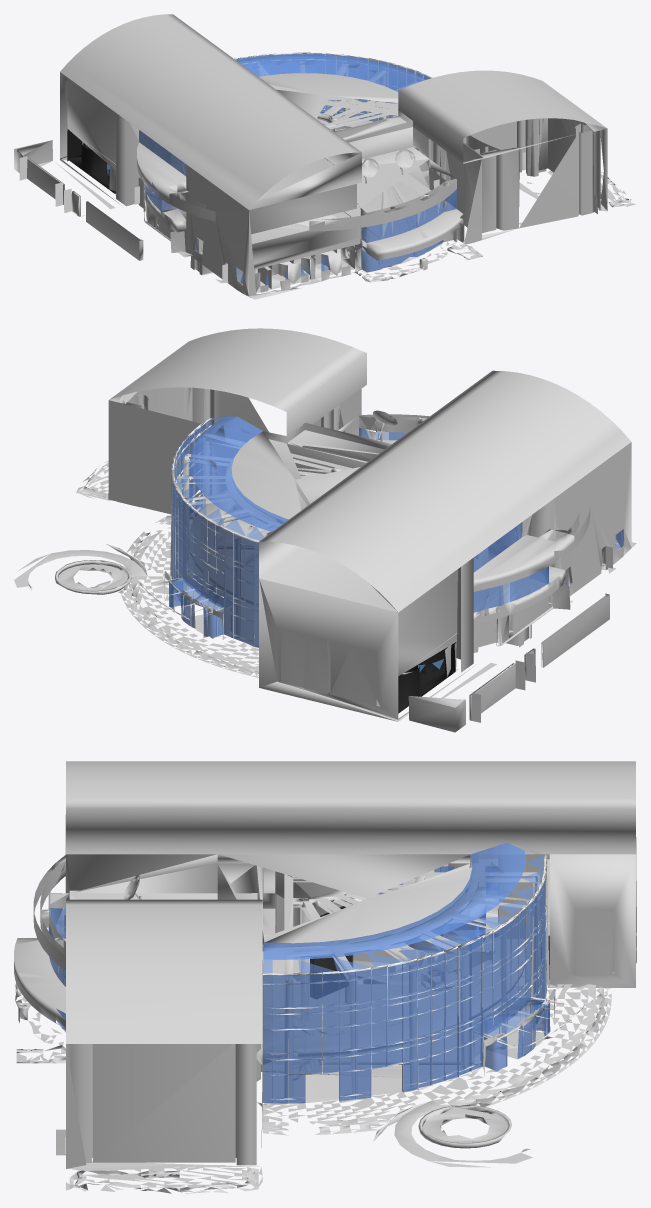
File: simplygoned-tcc_LOD2.obj
3 views of the same model, one above another, from view 1: azimuth 30°, elevation 25°; view 2: azimuth 150°, elevation 25°; view 3: azimuth 270°, elevation 25° (orthographic). The views are drawn at different scales.
Parts seen in each view (by area): view 1: Mesh1221 Model, Mesh51 Group28 Group27 Model, Mesh52 Group29 Group27 Model, Mesh54 Group32 Group30 Group27 Model, Mesh53 Group31 Group30 Group27 Model, Mesh77 Group57 Model, Mesh1259 Model, Mesh1260 Model, Mesh1235 Model; view 2: Mesh1221 Model, Mesh51 Group28 Group27 Model, Mesh52 Group29 Group27 Model, Mesh54 Group32 Group30 Group27 Model, Mesh53 Group31 Group30 Group27 Model, Mesh77 Group57 Model, Mesh93 Group70 Group62 Model, Mesh1259 Model, Mesh80 Group61 Group58 Model, Mesh79 Group60 Group58 Model, Mesh268 horiz_curtain_4__4_1 north_curtain_wall1 Model, Mesh286 horiz_curtain_4__5_1 north_curtain_wall1 Model (+10 smaller); view 3: Mesh1221 Model, Mesh51 Group28 Group27 Model, Mesh52 Group29 Group27 Model, Mesh54 Group32 Group30 Group27 Model, Mesh77 Group57 Model, Mesh53 Group31 Group30 Group27 Model, Mesh93 Group70 Group62 Model, Mesh80 Group61 Group58 Model, Mesh1175 horiz_curtain_4__14_2 north_curtain_wall_2_1 Model, Mesh1170 horiz_curtain_4__14_1 north_curtain_wall_2_1 Model, Mesh349 horiz_curtain_4__12_8 Model, Mesh348 horiz_curtain_4__12_7 Model (+25 smaller).
Part boxes in pixels (x1,y1,x2,y2): Mesh1221 Model: (14, 54, 607, 299); Mesh51 Group28 Group27 Model: (60, 14, 361, 209); Mesh52 Group29 Group27 Model: (398, 70, 607, 163); Mesh54 Group32 Group30 Group27 Model: (259, 73, 412, 142); Mesh53 Group31 Group30 Group27 Model: (235, 53, 429, 91); Mesh77 Group57 Model: (67, 155, 441, 292); Mesh1259 Model: (86, 201, 143, 260); Mesh1260 Model: (27, 158, 64, 204); Mesh1235 Model: (81, 141, 109, 174); Mesh1221 Model: (108, 387, 636, 732); Mesh51 Group28 Group27 Model: (259, 370, 631, 612); Mesh52 Group29 Group27 Model: (109, 328, 366, 442); Mesh54 Group32 Group30 Group27 Model: (231, 423, 391, 523); Mesh53 Group31 Group30 Group27 Model: (174, 416, 288, 540); Mesh77 Group57 Model: (170, 526, 620, 713); Mesh93 Group70 Group62 Model: (131, 519, 258, 669); Mesh1259 Model: (541, 593, 609, 667); Mesh80 Group61 Group58 Model: (55, 560, 131, 594); Mesh79 Group60 Group58 Model: (14, 550, 147, 587); Mesh268 horiz_curtain_4__4_1 north_curtain_wall1 Model: (244, 538, 254, 646); Mesh286 horiz_curtain_4__5_1 north_curtain_wall1 Model: (233, 534, 243, 642); Mesh1221 Model: (14, 815, 636, 1168); Mesh51 Group28 Group27 Model: (66, 761, 635, 854); Mesh52 Group29 Group27 Model: (66, 899, 262, 1043); Mesh54 Group32 Group30 Group27 Model: (217, 854, 472, 951); Mesh77 Group57 Model: (57, 935, 549, 1102); Mesh53 Group31 Group30 Group27 Model: (262, 842, 543, 973); Mesh93 Group70 Group62 Model: (262, 984, 597, 1127); Mesh80 Group61 Group58 Model: (418, 1105, 511, 1148); Mesh1175 horiz_curtain_4__14_2 north_curtain_wall_2_1 Model: (272, 975, 289, 1104); Mesh1170 horiz_curtain_4__14_1 north_curtain_wall_2_1 Model: (288, 975, 305, 1104); Mesh349 horiz_curtain_4__12_8 Model: (339, 971, 355, 1101); Mesh348 horiz_curtain_4__12_7 Model: (355, 969, 371, 1100).
Bounding box in the file's own units: 2803 × 899 × 2242.
